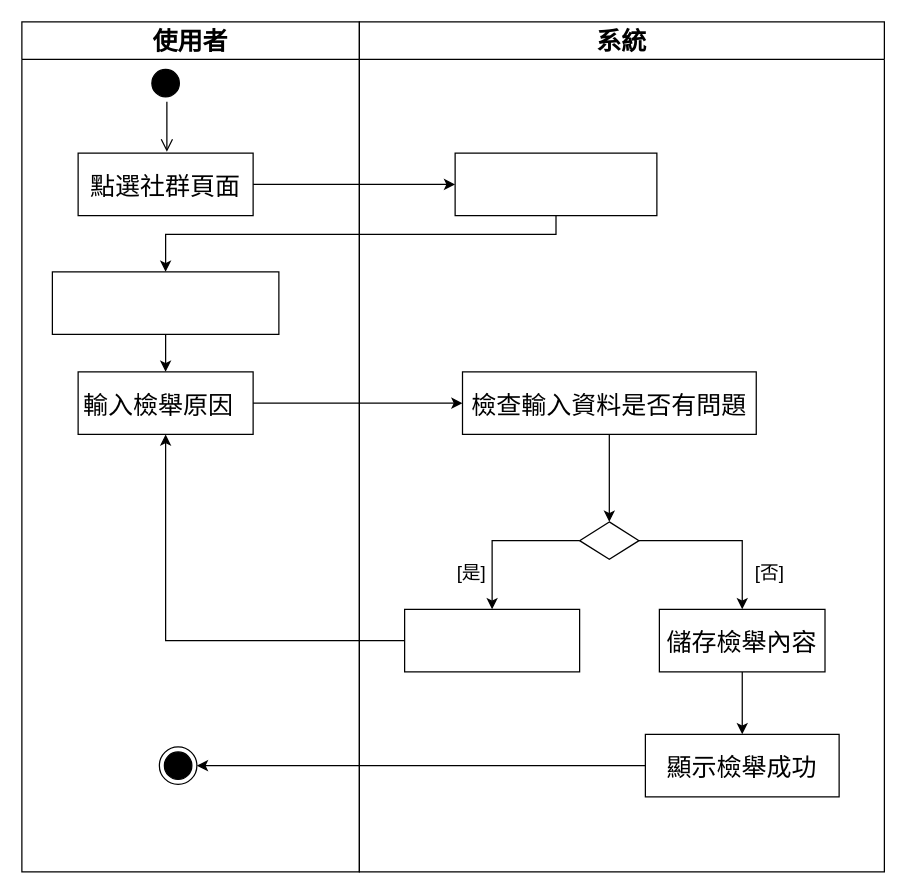
The diagram is 906 pixels wide and 894 high, and some of its shapes have lost their labels. The centre of each missing label's shape, as x and y in pixels:
"提示檢舉失敗" belongs at pixel 491 640.
"顯示貼文及留言" belongs at pixel 555 184.
"點擊檢舉按鈕" belongs at pixel 165 302.
